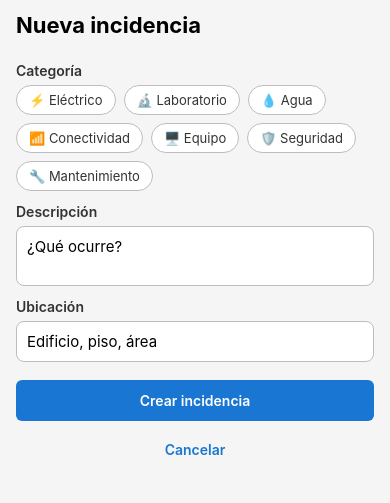
Test case: CrearIncidencia form › shows a controlled message for {"kind":"http","status":403,"code":"forbidden"} and does not lock the form
The width and height of the screenshot is (390, 503).
Click the element with test id "categoria-water" at {"x": 287, "y": 100}, box [248,85,326,115]
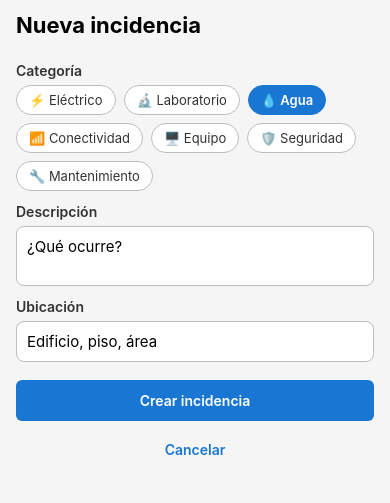
Type "  Fuga simulada  " into the text box with test id "input-descripcion" at {"x": 195, "y": 256}, box [16,226,374,286]
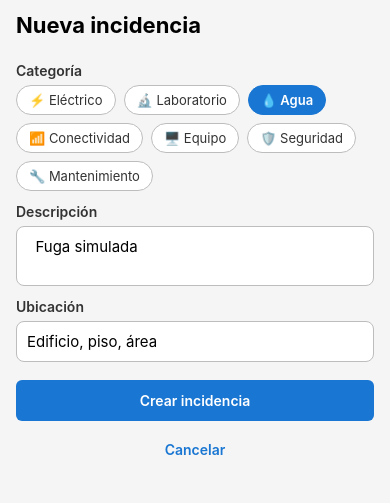
Type "Zona manual ficticia" into the field with test id "input-ubicacion" at {"x": 195, "y": 342}, box [16,321,374,362]
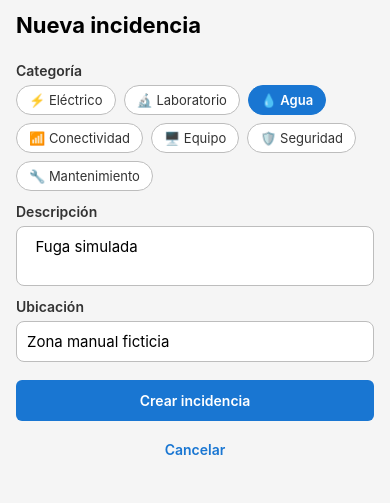
Click the element with test id "crear-enviar" at {"x": 195, "y": 400}, box [16,380,374,421]
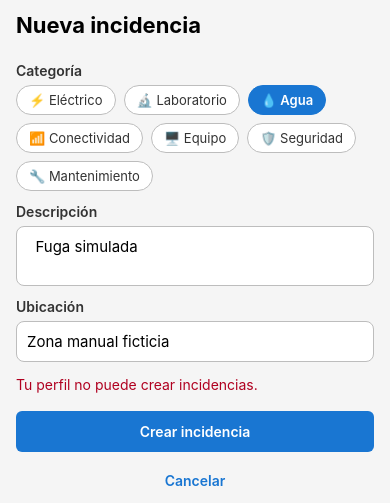
Now the text "Tu perfil no puede crear incidencias." is shown, box [16,376,258,393]
